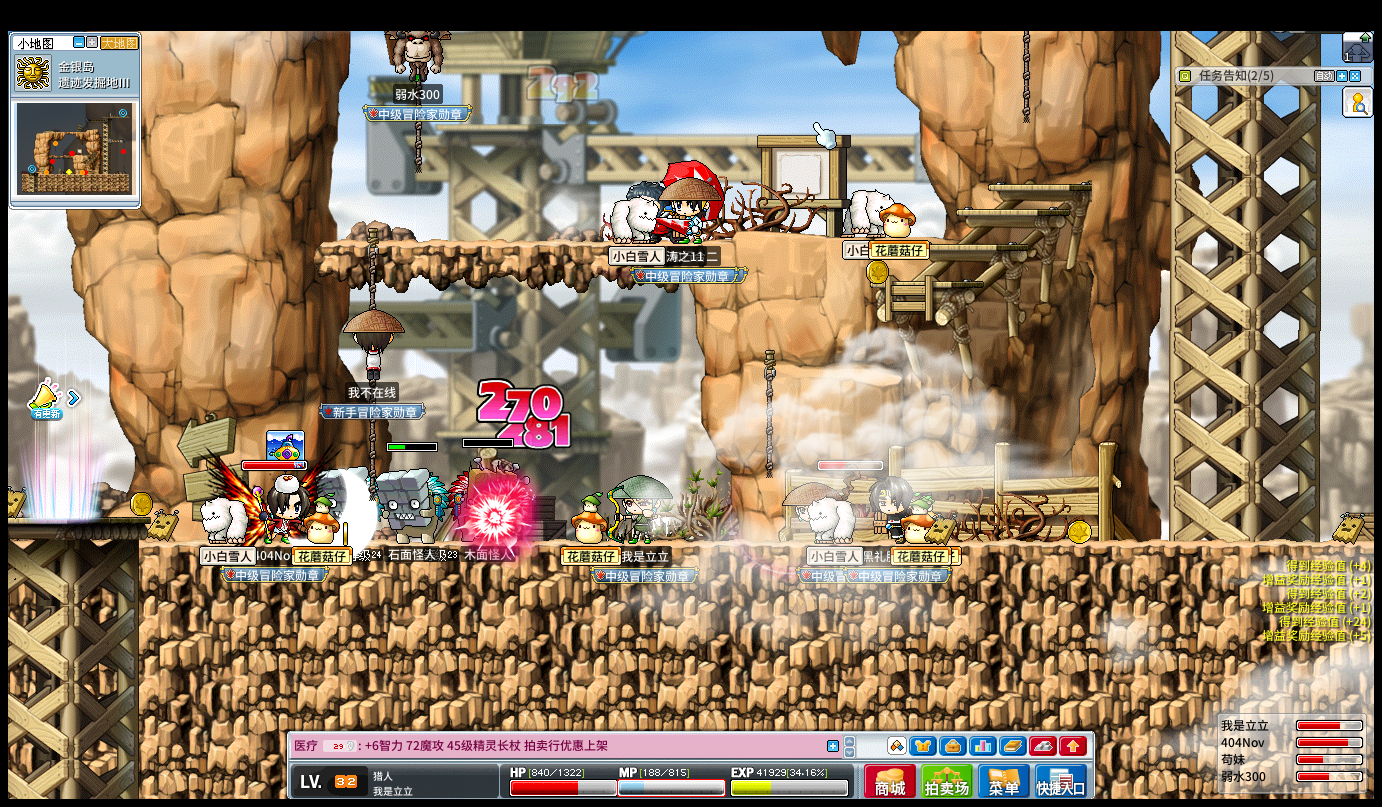floor: (317, 239, 701, 248), (793, 367, 905, 387), (3, 516, 150, 525), (954, 205, 1065, 216), (811, 233, 956, 241), (865, 281, 977, 291), (862, 280, 981, 288), (953, 207, 1064, 214), (916, 243, 1023, 250), (986, 184, 1090, 191)
monster: (451, 462, 529, 542), (376, 468, 449, 541)
rope: (761, 350, 774, 483), (365, 226, 377, 309), (1020, 29, 1029, 121), (366, 419, 375, 477)
